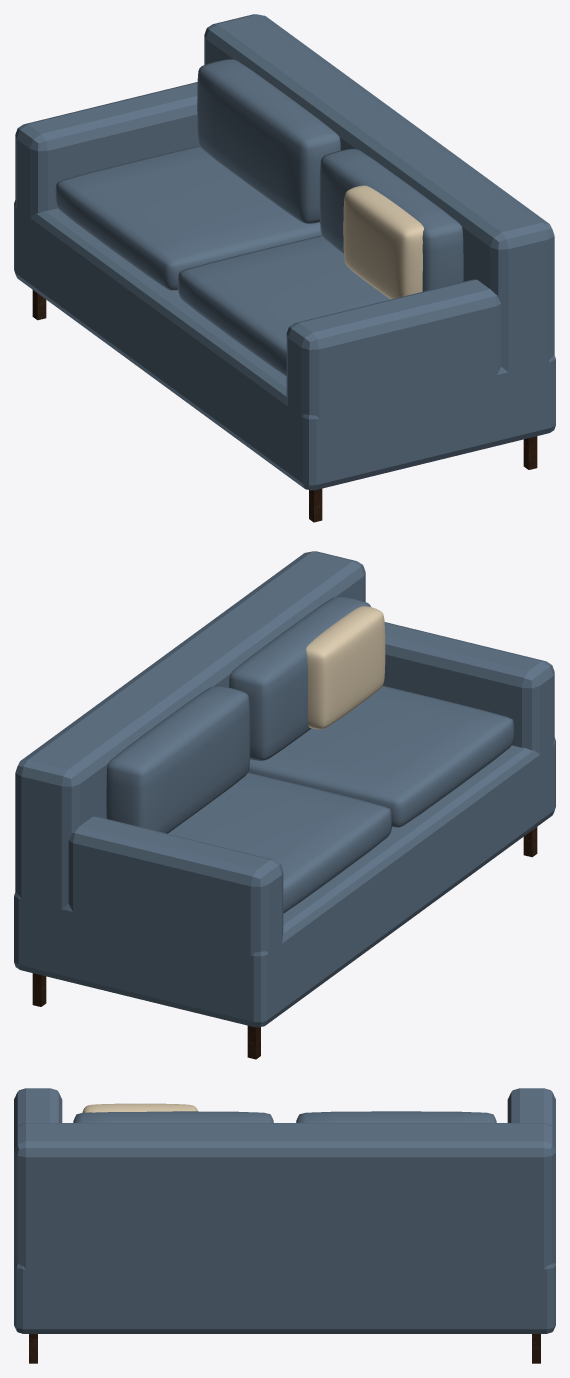
Rendered from sofa.glb.
3 renders of one model, top to bottom at view 1: azimuth 30°, elevation 25°; view 2: azimuth 150°, elevation 25°; view 3: azimuth 270°, elevation 25°, orthographic. The views are drawn at different scales.
Visible parts, largest first — view 1: sofa_base, sofa_back, sofa_arm5.2, sofa_seat1, sofa_seat0, sofa_cush1, sofa_arm6.8, sofa_cush0, sofa_pillow; view 2: sofa_base, sofa_back, sofa_arm6.8, sofa_seat0, sofa_seat1, sofa_cush1, sofa_arm5.2, sofa_cush0, sofa_pillow; view 3: sofa_back, sofa_base, sofa_cush1, sofa_cush0, sofa_arm5.2, sofa_arm6.8, sofa_pillow.
Boxes of the visible parts, left/top/right/bottom form: sofa_base: left=14, top=200, right=555, bottom=490; sofa_back: left=204, top=14, right=554, bottom=371; sofa_arm5.2: left=286, top=279, right=501, bottom=478; sofa_seat1: left=55, top=146, right=321, bottom=290; sofa_seat0: left=178, top=235, right=390, bottom=376; sofa_cush1: left=197, top=59, right=340, bottom=223; sofa_arm6.8: left=15, top=82, right=199, bottom=280; sofa_cush0: left=319, top=148, right=463, bottom=291; sofa_pillow: left=343, top=185, right=423, bottom=299; sofa_base: left=14, top=737, right=555, bottom=1027; sofa_back: left=15, top=551, right=365, bottom=971; sofa_arm6.8: left=68, top=816, right=283, bottom=1015; sofa_seat0: left=248, top=685, right=514, bottom=827; sofa_seat1: left=168, top=772, right=391, bottom=913; sofa_cush1: left=106, top=685, right=250, bottom=833; sofa_arm5.2: left=382, top=622, right=554, bottom=754; sofa_cush0: left=229, top=596, right=370, bottom=760; sofa_pillow: left=306, top=606, right=385, bottom=729; sofa_back: left=14, top=1123, right=555, bottom=1326; sofa_base: left=14, top=1262, right=555, bottom=1333; sofa_cush1: left=296, top=1111, right=496, bottom=1122; sofa_cush0: left=73, top=1111, right=273, bottom=1122; sofa_arm5.2: left=14, top=1088, right=62, bottom=1133; sofa_arm6.8: left=507, top=1088, right=555, bottom=1133; sofa_pillow: left=82, top=1103, right=197, bottom=1112.
Size of the model in its own units: 0.88 by 0.82 by 1.8.
Materials: 3 (1 with a texture image).
